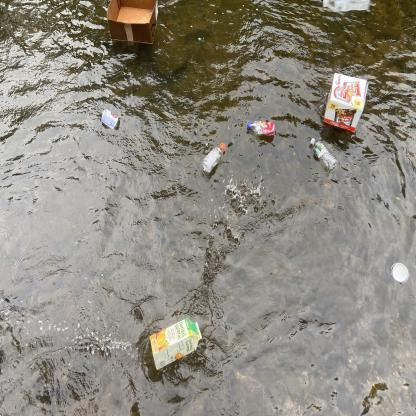trash: (144, 314, 206, 374), (320, 69, 371, 135), (103, 0, 161, 45), (306, 132, 342, 178), (198, 140, 230, 178), (244, 113, 280, 144), (317, 0, 372, 18), (96, 105, 124, 139), (387, 260, 410, 288)
